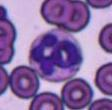N: (28, 28, 84, 82)
